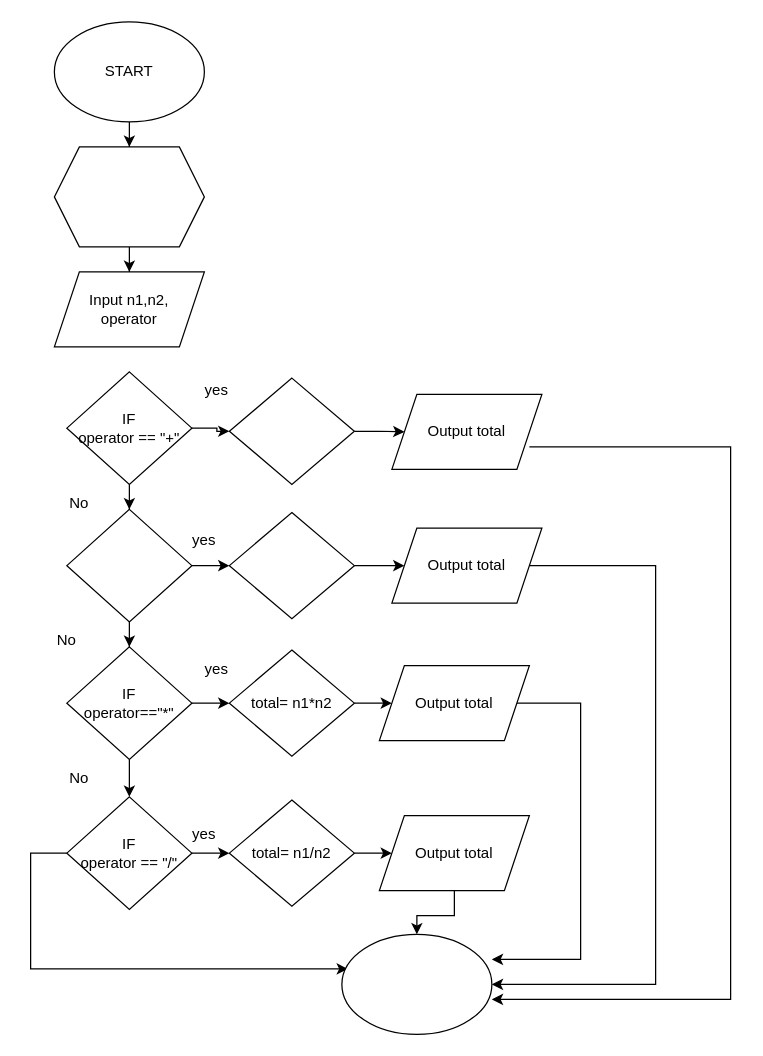
Image size: 763x1056. Some labels were removed from this diagram. Each missing label, with the centre of its shape:
END: [416,983]
IF operator=="-": [129,565]
n1,n2,total,operator: [128,196]
total= n1+n2: [291,430]
total= n1-n2: [291,565]
